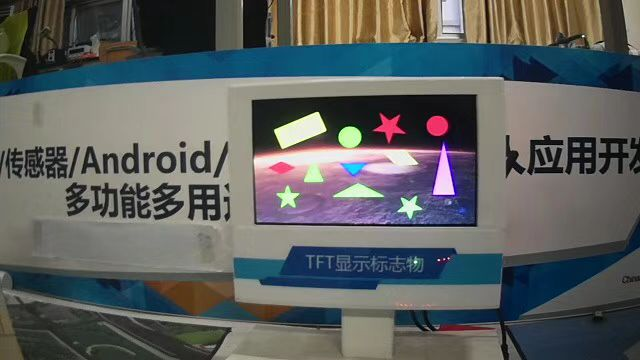graph: (248, 92, 485, 227)
